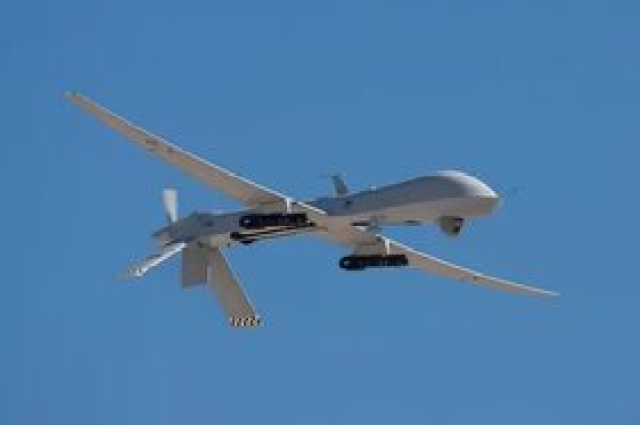military drone: (64, 90, 561, 327)
